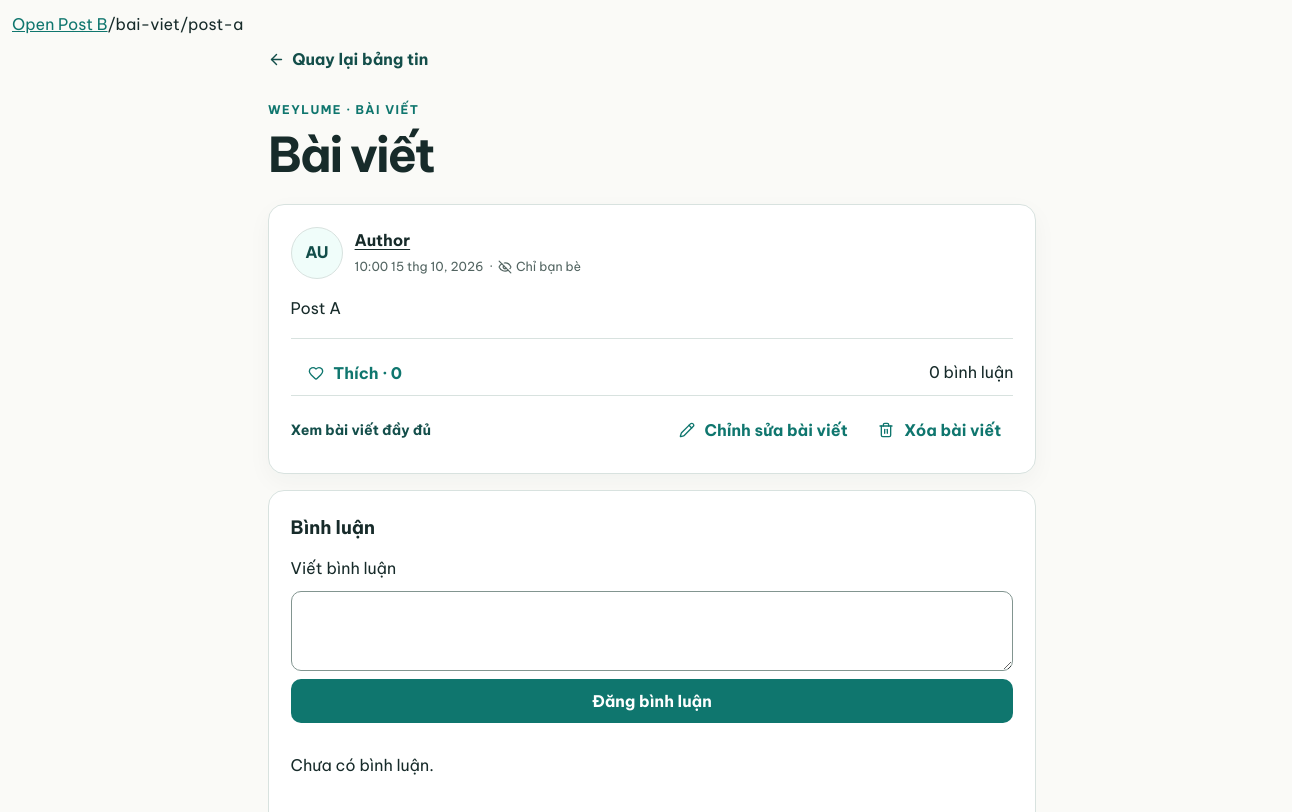
Test: PostDetailPage route identity › redacts unavailable comments and clears the draft on 401
Expected: the text "Post A" is shown, 291,298 -> 341,318
Type "Private draft" into the text box labelled "Viết bình luận" at x=652, y=630, box 291,590 -> 1013,670
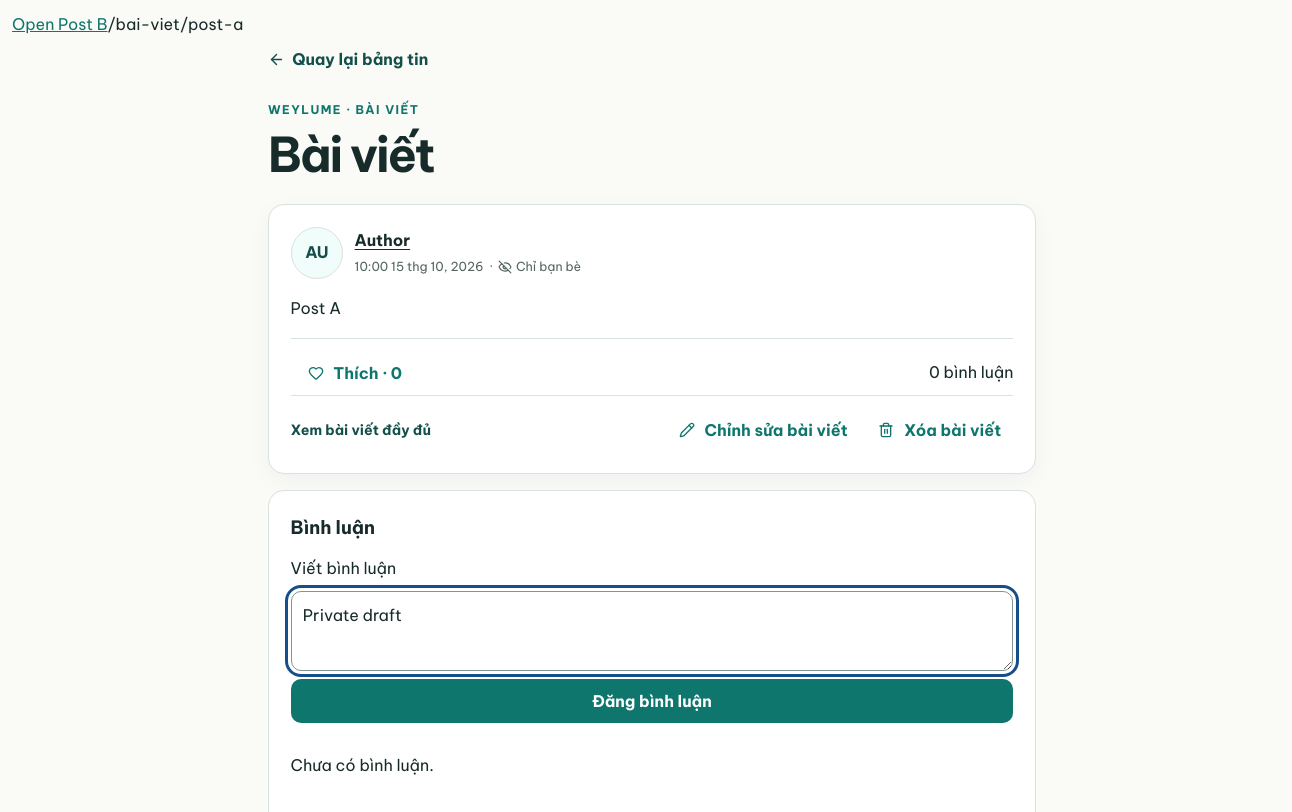
Click the button "Đăng bình luận" at x=652, y=701, box 291,679 -> 1013,723
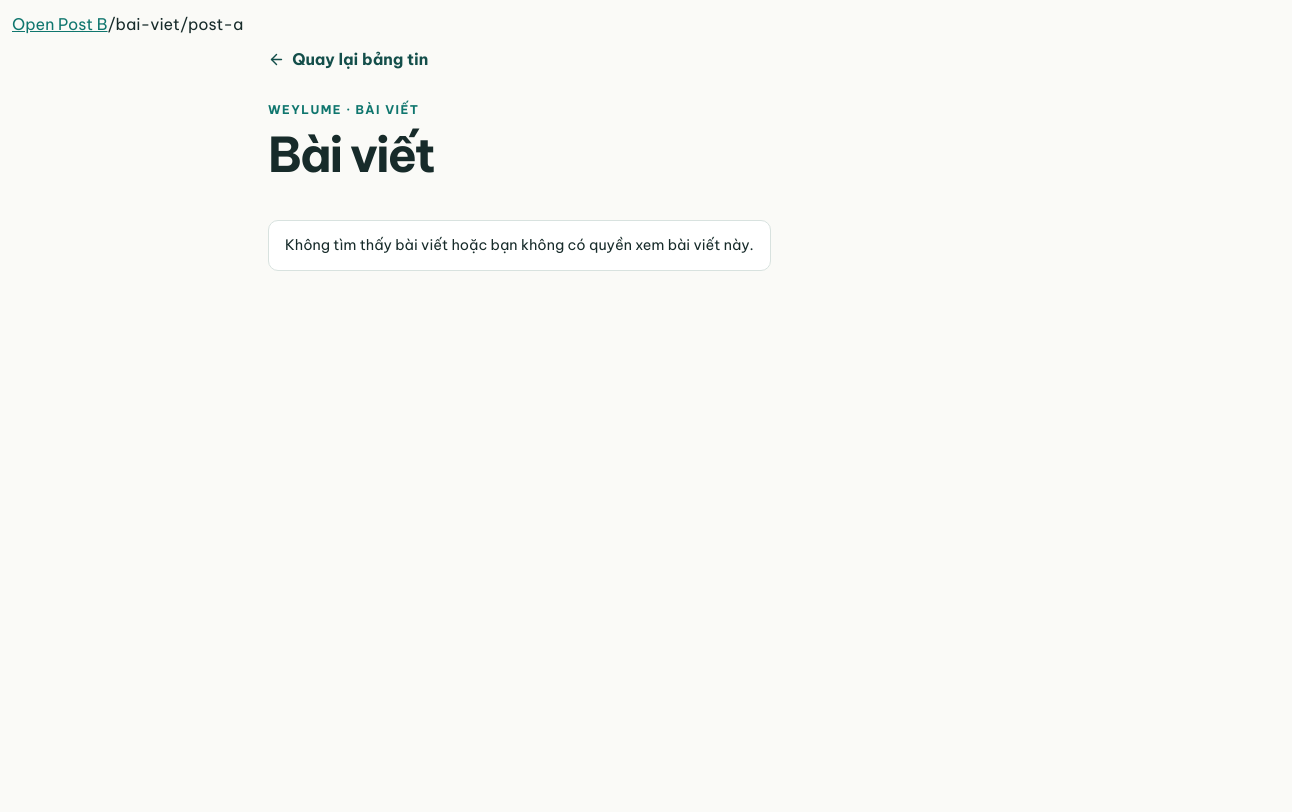
Expected: the text "Post A" is gone
